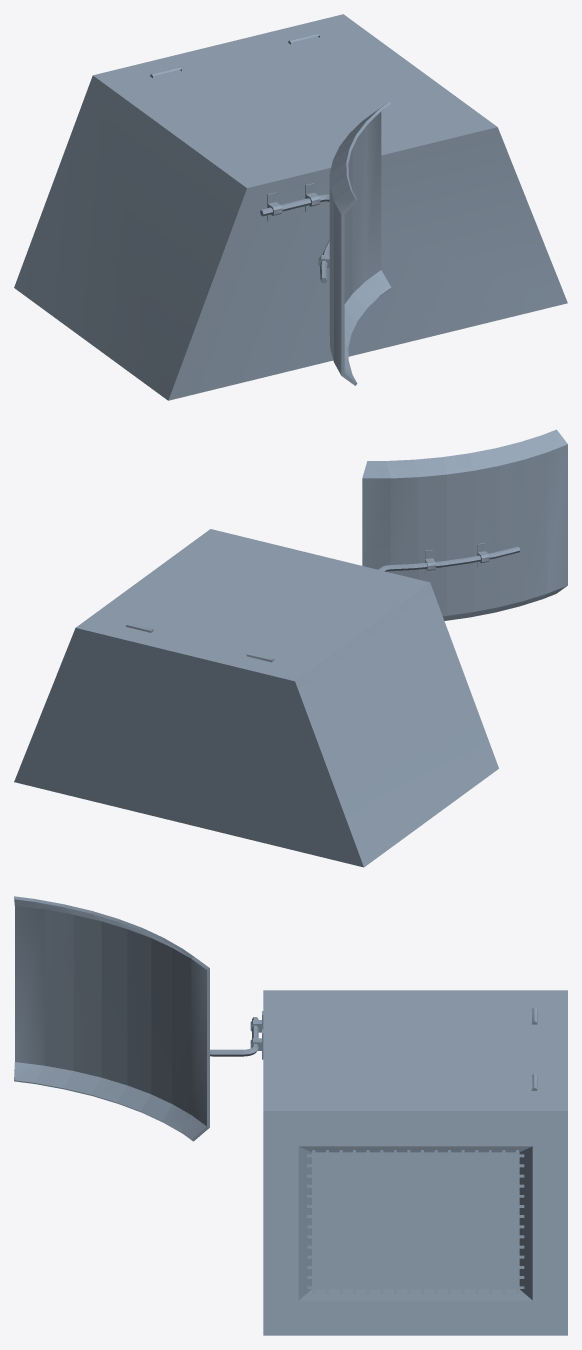
Rendered from Track_full_001_track.fbx.
3 views of the same model, one above another, from view 1: azimuth 30°, elevation 25°; view 2: azimuth 150°, elevation 25°; view 3: azimuth 270°, elevation 25° (orthographic). The views are drawn at different scales.
Visible parts, largest first — view 1: Track_full.001.track; view 2: Track_full.001.track; view 3: Track_full.001.track.
Boxes of the visible parts, x1,y1,x2,y2 form: Track_full.001.track: (14, 14, 567, 400); Track_full.001.track: (14, 429, 567, 867); Track_full.001.track: (14, 896, 567, 1335).
Bounding box in the file's own units: 1.34 × 0.8984 × 1.63.
